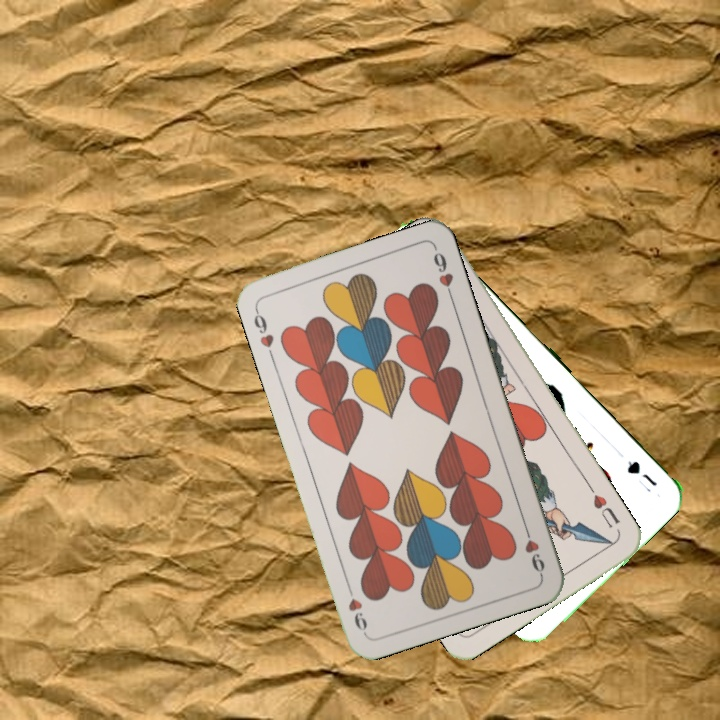GU: (623, 456, 660, 489)
H9: (519, 521, 548, 578), (249, 303, 277, 350)
HU: (588, 490, 623, 531)
